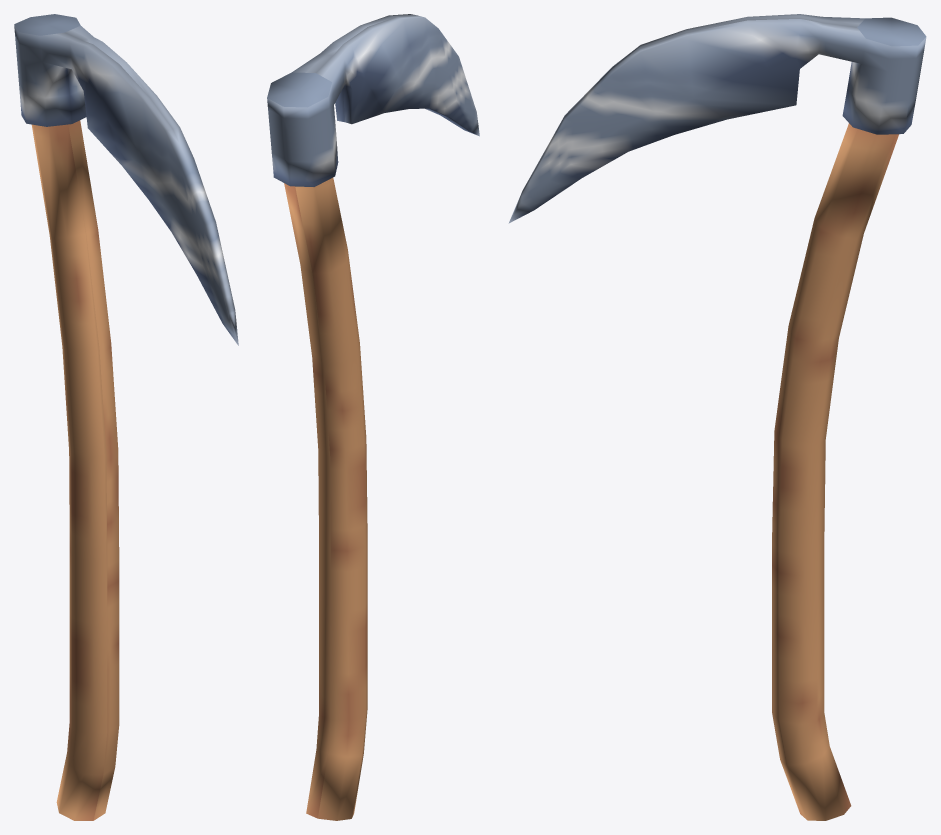
Rendered from foice.fbx.
3 views of the same model, side by side, from view 1: azimuth 30°, elevation 25°; view 2: azimuth 150°, elevation 25°; view 3: azimuth 270°, elevation 25° (orthographic). The views are drawn at different scales.
Parts seen in each view (by area): view 1: Foice; view 2: Foice; view 3: Foice.
Part boxes in pixels (left/top/right/bottom): Foice: left=14, top=14, right=238, bottom=820; Foice: left=267, top=14, right=479, bottom=820; Foice: left=508, top=14, right=926, bottom=820.
Bounding box in the file's own units: 7.94 × 101 × 48.27.
